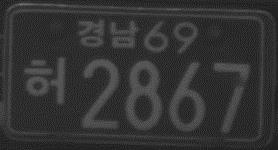2: (80, 56, 121, 132)
6: (167, 60, 208, 133), (143, 18, 170, 53)
7: (211, 60, 252, 134)
8: (124, 59, 164, 132)
9: (172, 20, 198, 56)
경남_O: (77, 17, 139, 50)
허: (24, 55, 68, 106)
